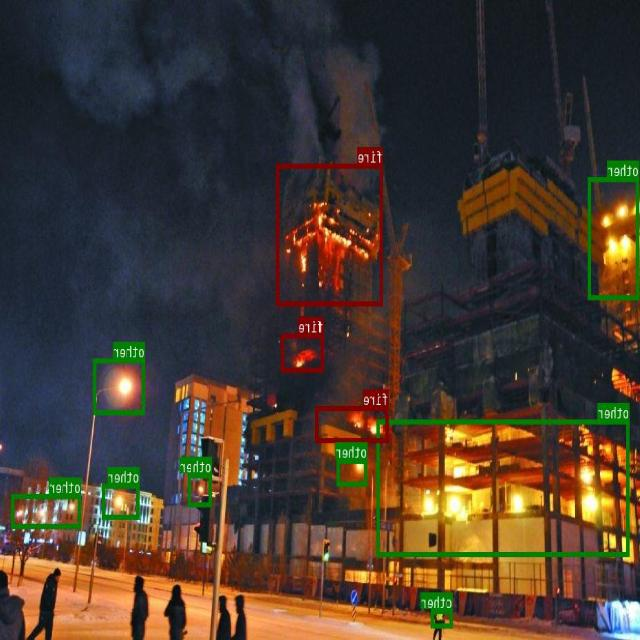fire: (277, 163, 384, 305), (316, 405, 389, 441), (282, 333, 324, 371)
other: (377, 418, 630, 556), (589, 176, 640, 299), (94, 358, 146, 414), (12, 493, 82, 527), (103, 482, 140, 518), (338, 458, 368, 484), (189, 473, 212, 505), (432, 608, 453, 627)
